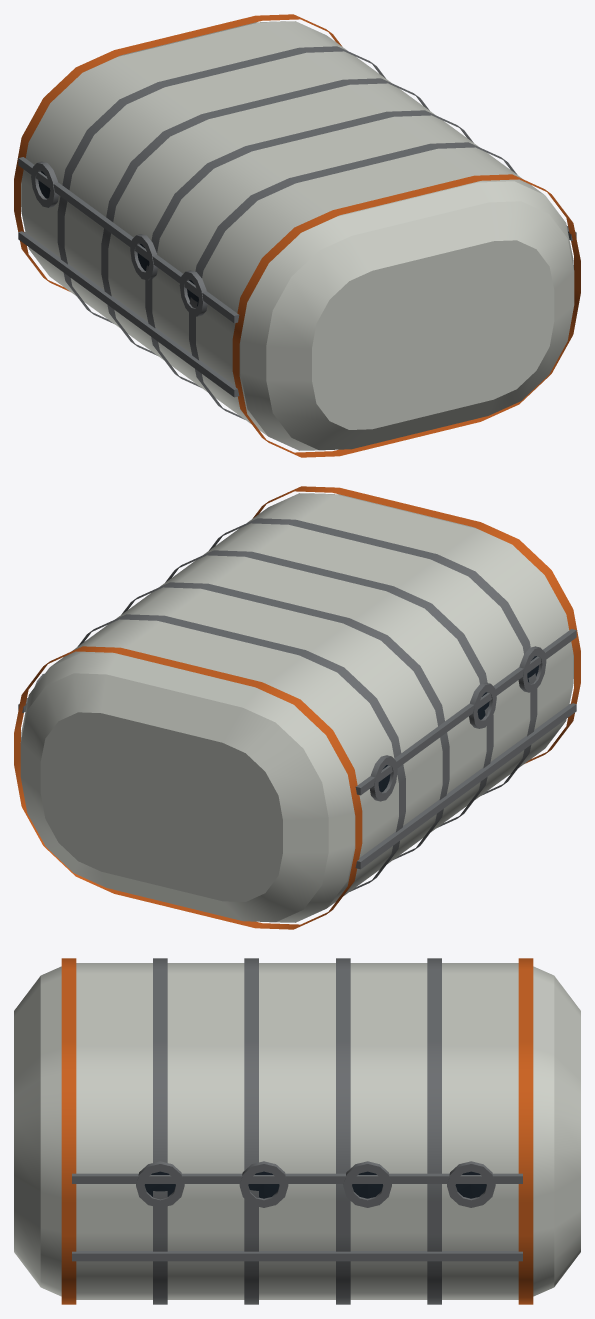
The model's file is p20_hull.obj.
The picture shows the model from 3 angles, top to bottom: view 1: azimuth 30°, elevation 25°; view 2: azimuth 150°, elevation 25°; view 3: azimuth 270°, elevation 25°; orthographic projection. The views are drawn at different scales.
Parts seen in each view (by area): view 1: p20_hull; view 2: p20_hull; view 3: p20_hull.
Boxes of the visible parts, x1=… form: p20_hull: x1=14, y1=14, x2=580, y2=457; p20_hull: x1=14, y1=486, x2=580, y2=929; p20_hull: x1=14, y1=958, x2=580, y2=1304.
Bounding box in the file's own units: 3.4 × 2.28 × 4.65.
